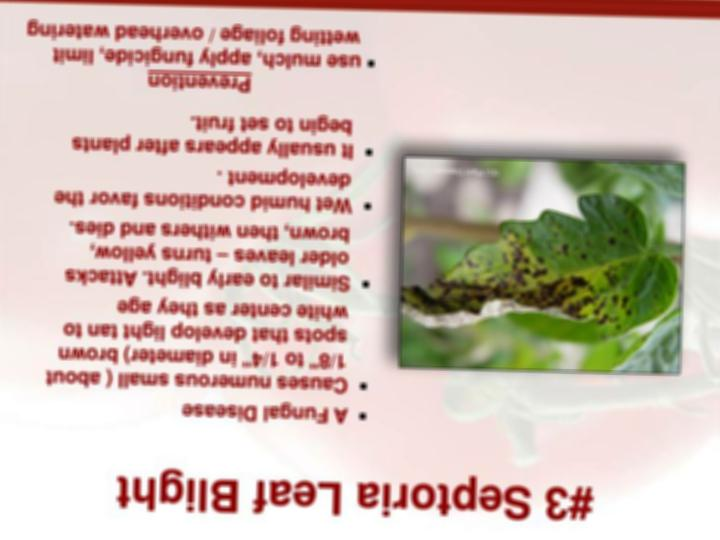Tomato Septoria leaf spot: (405, 178, 673, 338)
